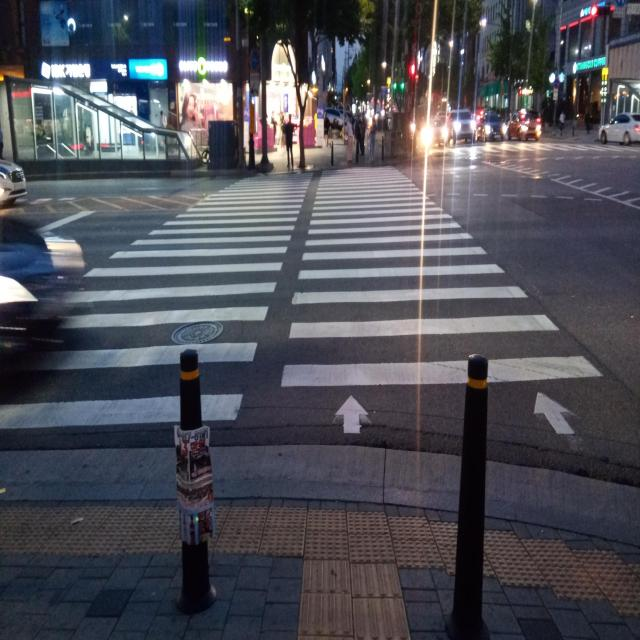빨간불: (409, 62, 418, 94)
횡단보도: (0, 164, 606, 436), (444, 144, 640, 156)
